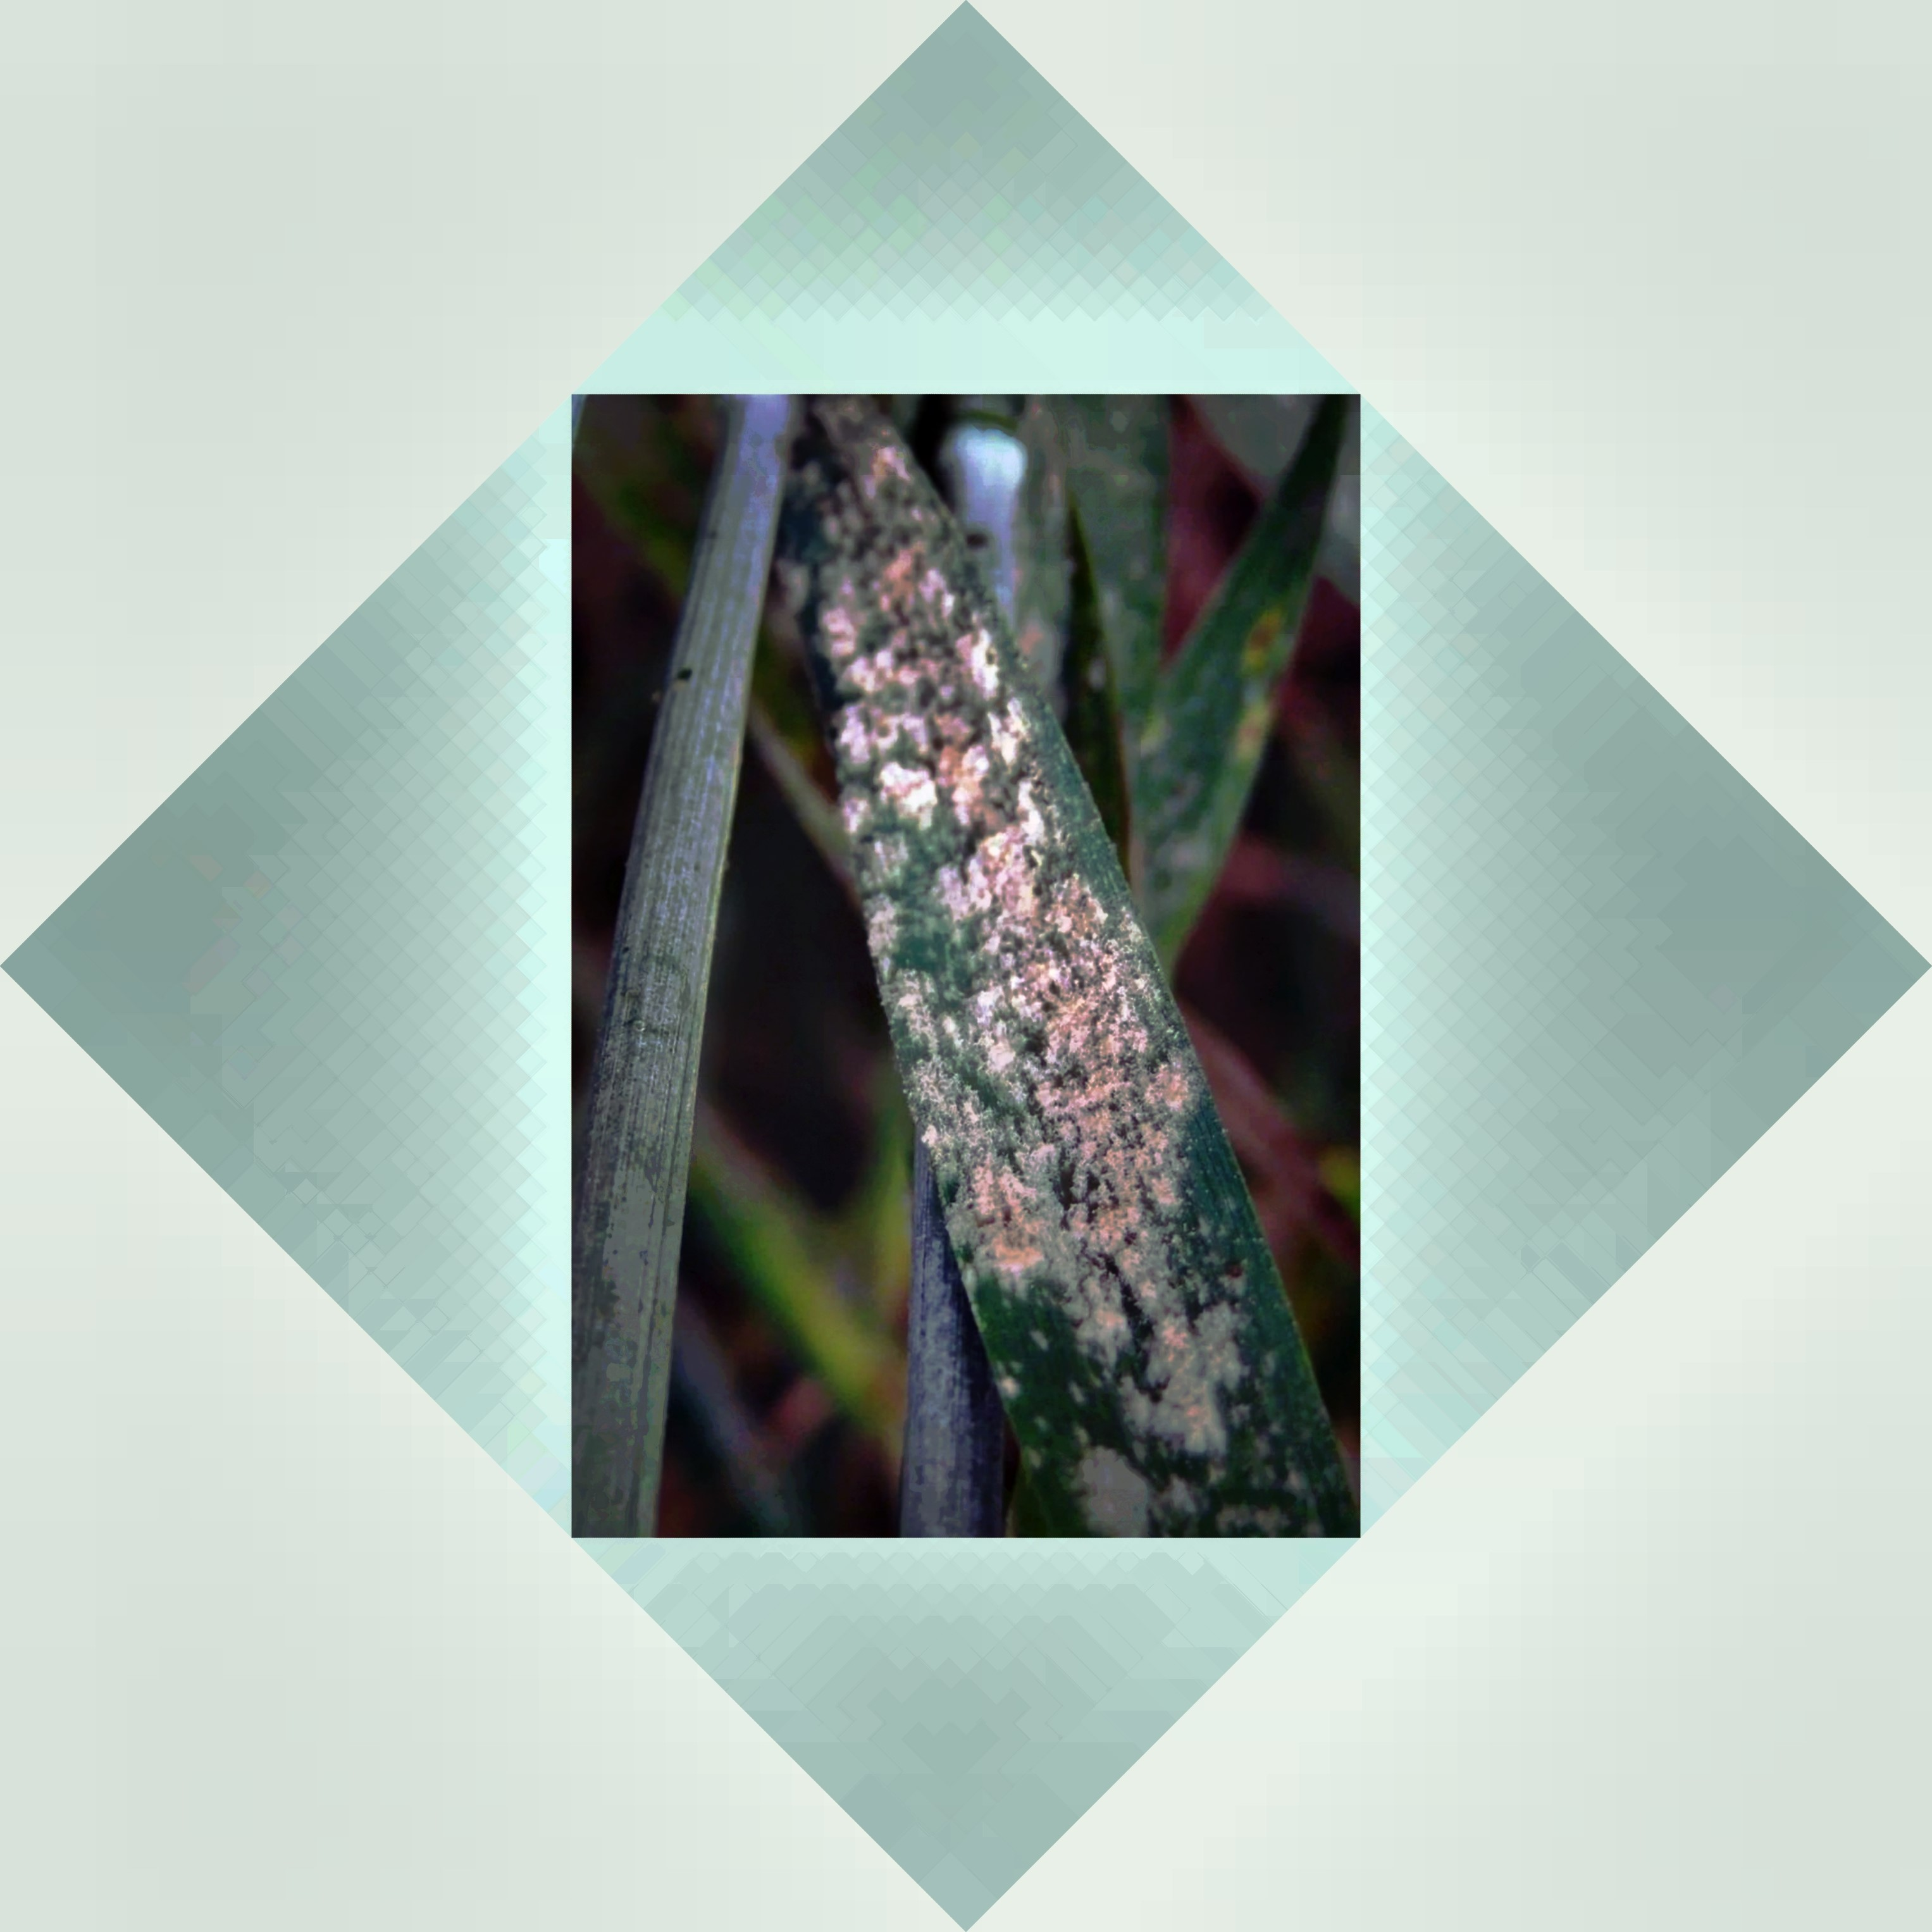Powdery Mildew: (812, 573, 1247, 1375)
